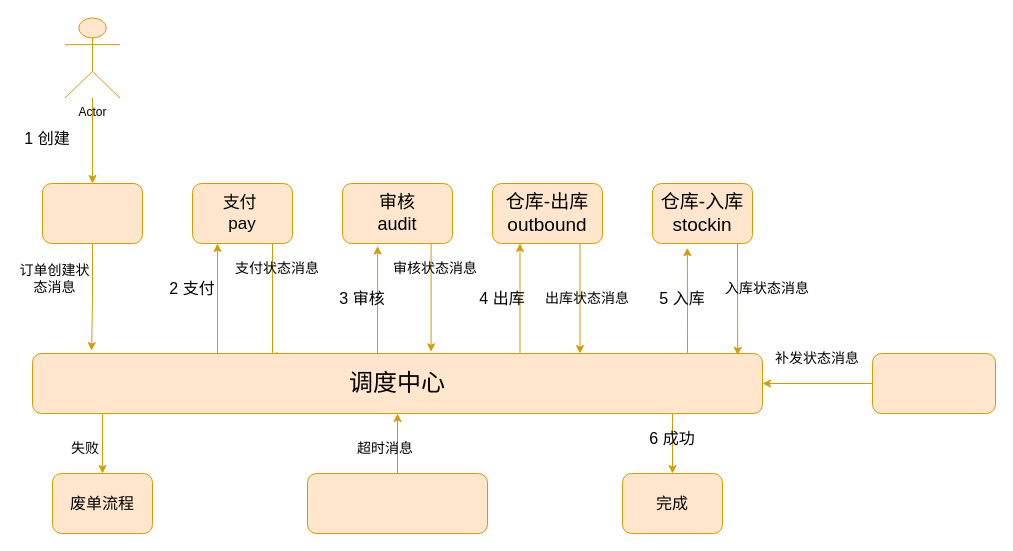
Some shapes in this 1013 by 551 pixel diagram are drawn without their labels. Here are the shapes that lost their labels. From the top down, the centre of each, then its label:
point (92, 213): 订单能力中心 create
point (934, 383): 后门管理模块
point (397, 503): 超时控制流程
